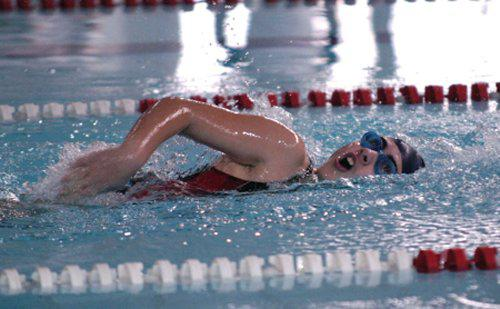swimmer: (62, 94, 424, 206)
